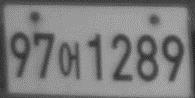1: (87, 34, 104, 83)
2: (110, 33, 134, 83)
7: (32, 31, 55, 80)
8: (136, 34, 160, 82)
9: (161, 35, 184, 83), (9, 31, 30, 78)
어: (58, 41, 81, 80)
